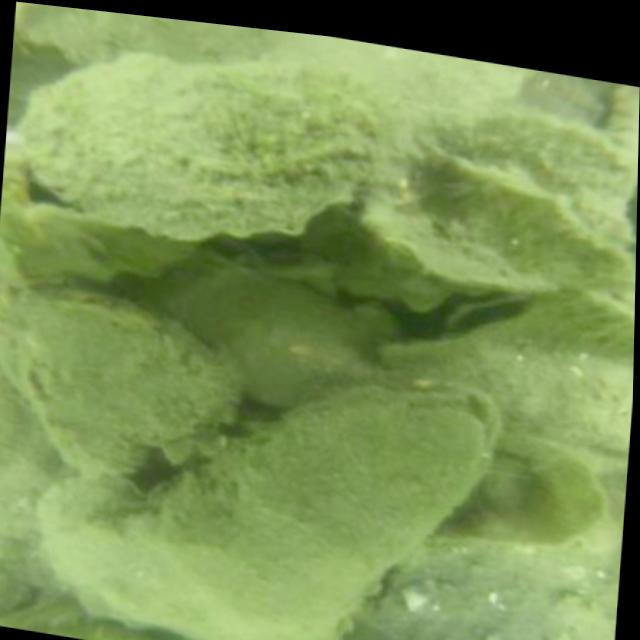Oyster-Closed: (125, 382, 501, 640)
Oyster-Indeterminate: (6, 49, 477, 247), (2, 288, 240, 473), (387, 293, 621, 471), (35, 470, 241, 640), (150, 264, 374, 407), (474, 107, 638, 253), (421, 433, 613, 555)
Oyster-Open: (445, 291, 536, 340)
